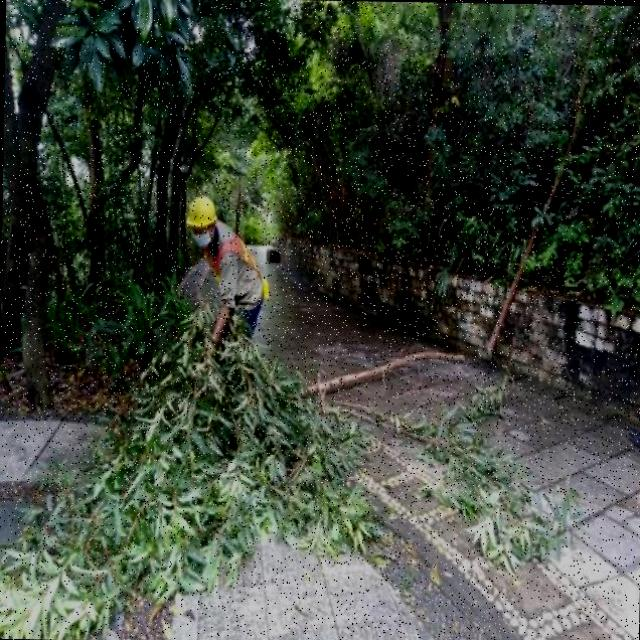fallen_object: (300, 347, 467, 400)
